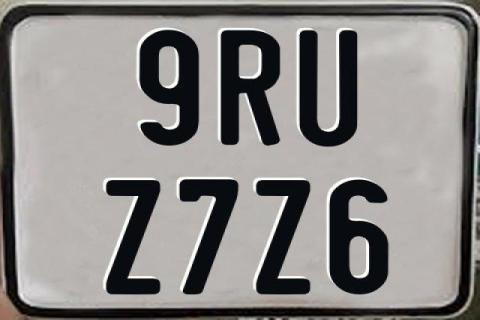0: (139, 28, 203, 149), (326, 179, 388, 297), (179, 178, 241, 294)
R: (220, 30, 279, 148)
U: (299, 29, 363, 149)
Z: (104, 179, 162, 295), (256, 177, 312, 297)
